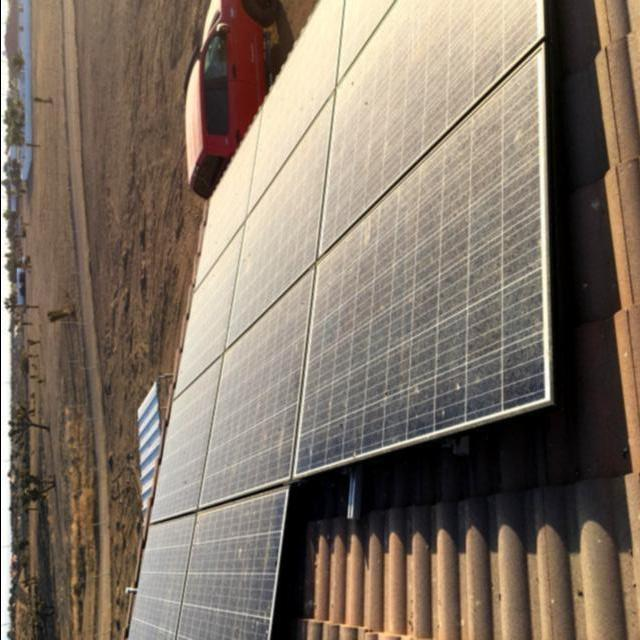soiled: (129, 9, 335, 638), (295, 0, 560, 472)
